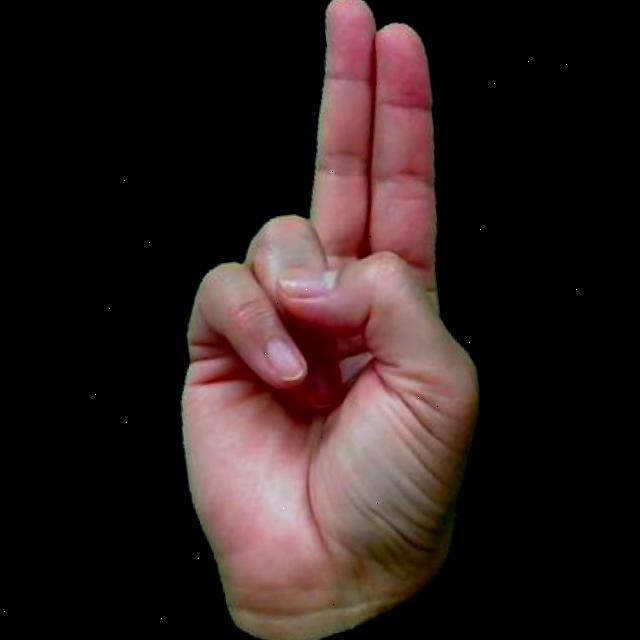u: (112, 0, 522, 640)
